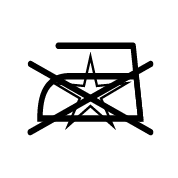do_not_iron: (27, 43, 155, 136)
